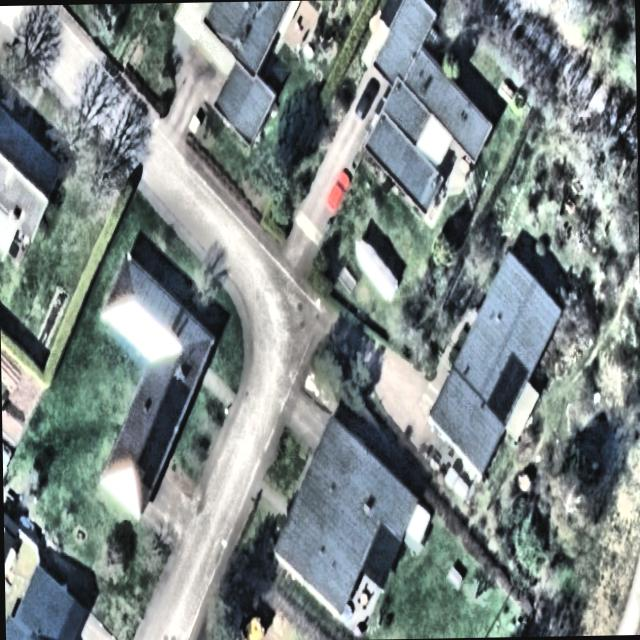roof_pv: (487, 351, 530, 423), (158, 373, 191, 455), (137, 415, 162, 493)
